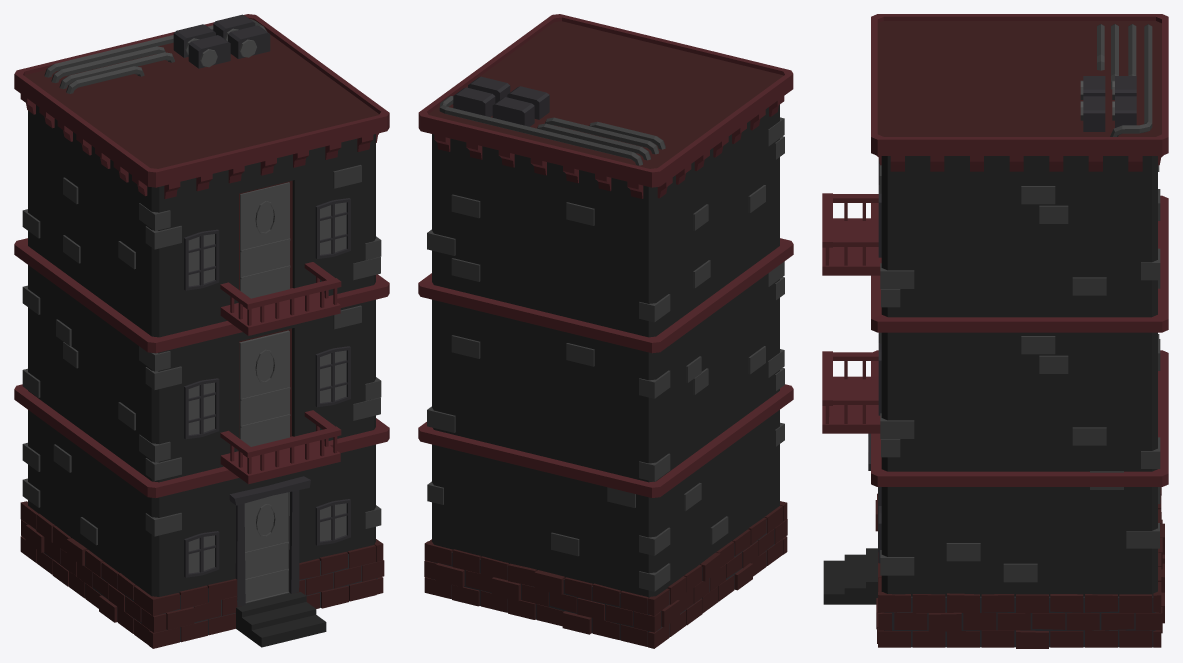
Rendered from 3Story_Balcony.glb.
The picture shows the model from 3 angles, left to right: view 1: azimuth 30°, elevation 25°; view 2: azimuth 150°, elevation 25°; view 3: azimuth 270°, elevation 25°; orthographic projection. The views are drawn at different scales.
Parts seen in each view (by area): view 1: 3Story_Balcony_Cube.009; view 2: 3Story_Balcony_Cube.009; view 3: 3Story_Balcony_Cube.009.
Part boxes in pixels (<box>): 3Story_Balcony_Cube.009: <box>14,14,389,648</box>; 3Story_Balcony_Cube.009: <box>418,14,793,648</box>; 3Story_Balcony_Cube.009: <box>822,14,1168,648</box>.
Size of the model in its own units: 2.16 by 4.21 by 2.51.
1 material, 1 textured.
